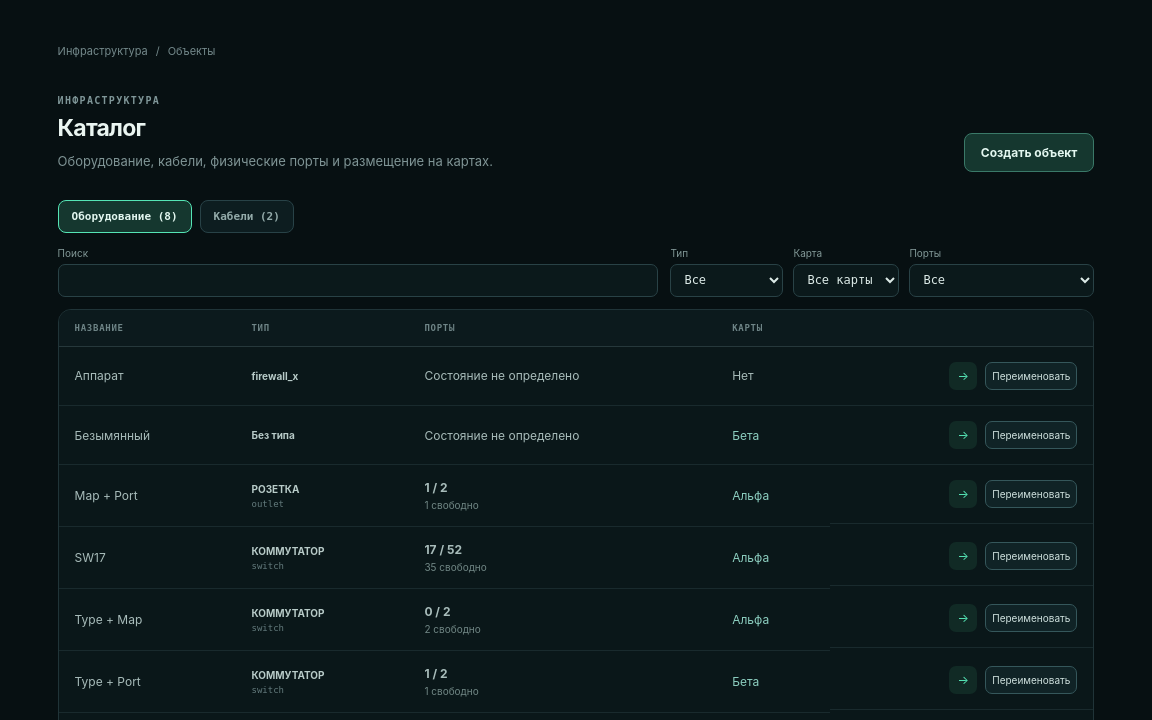
Test: InfrastructureObjectsPage inventory catalog › renames equipment through an authoritative inventory refresh, including cable endpoint labels
This screenshot has width=1152, height=720.
Click the button with aria-label "Переименовать SW17": (1031, 556) [985,542,1077,570]
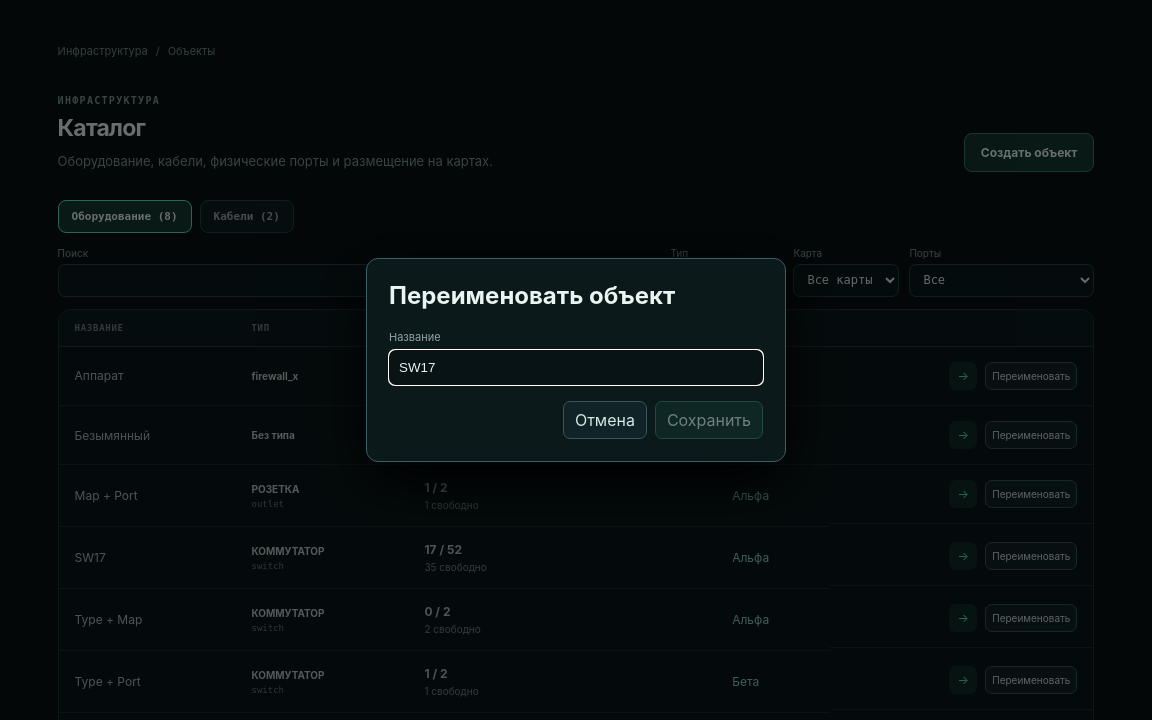
Check: the heading "Переименовать объект" is shown, box [389,281,675,310]
Check: the field labelled "Название" holds "SW17"
Replace the text in the field labelled "Название" with "  NEW SW17  ": (576, 368) [389,350,763,385]
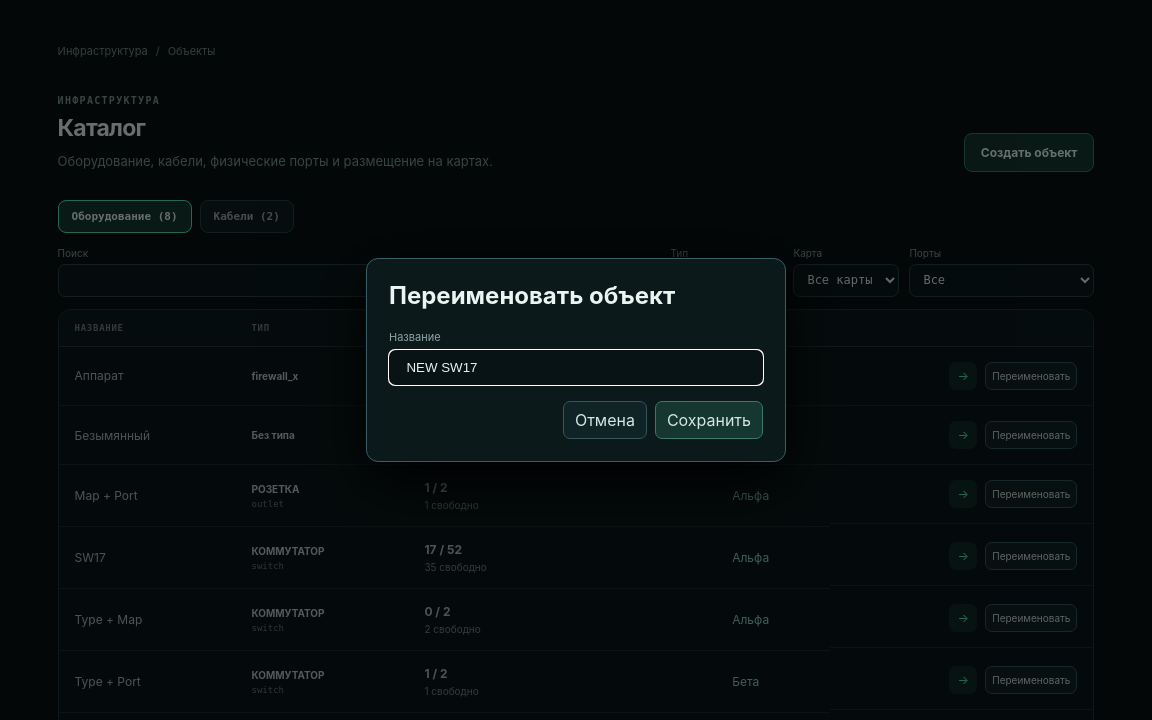
Click the button "Сохранить": (709, 420) [655,401,763,439]
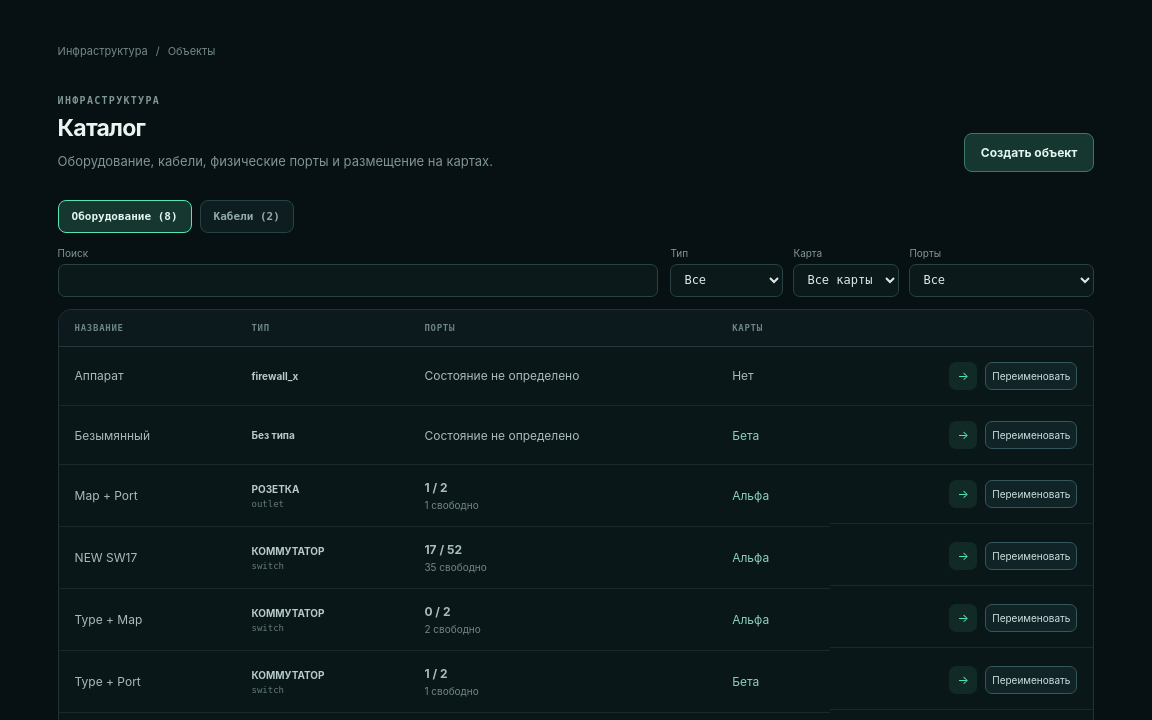
Check: the link named "Открыть объект NEW SW17" is shown, box [949,542,977,570]
Click the tab "Кабели (2)": (247, 216) [200,200,294,232]
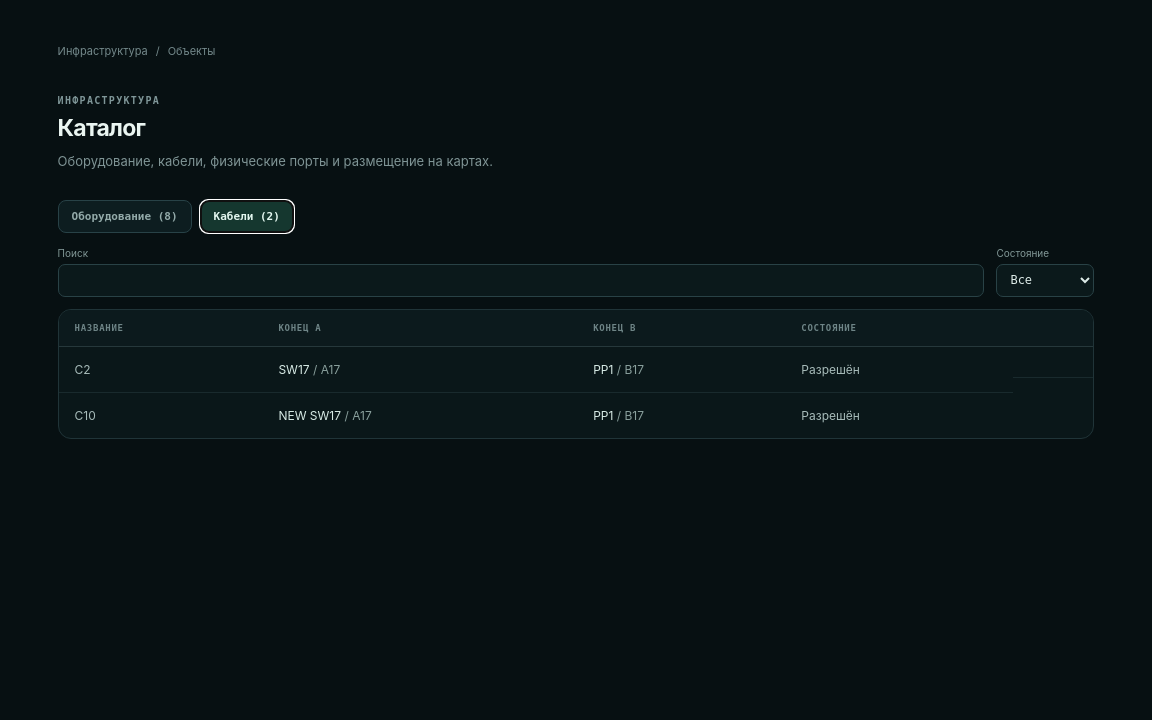
Check: the text "C10" shows "NEW SW17 / A17", box [59,392,1093,438]
